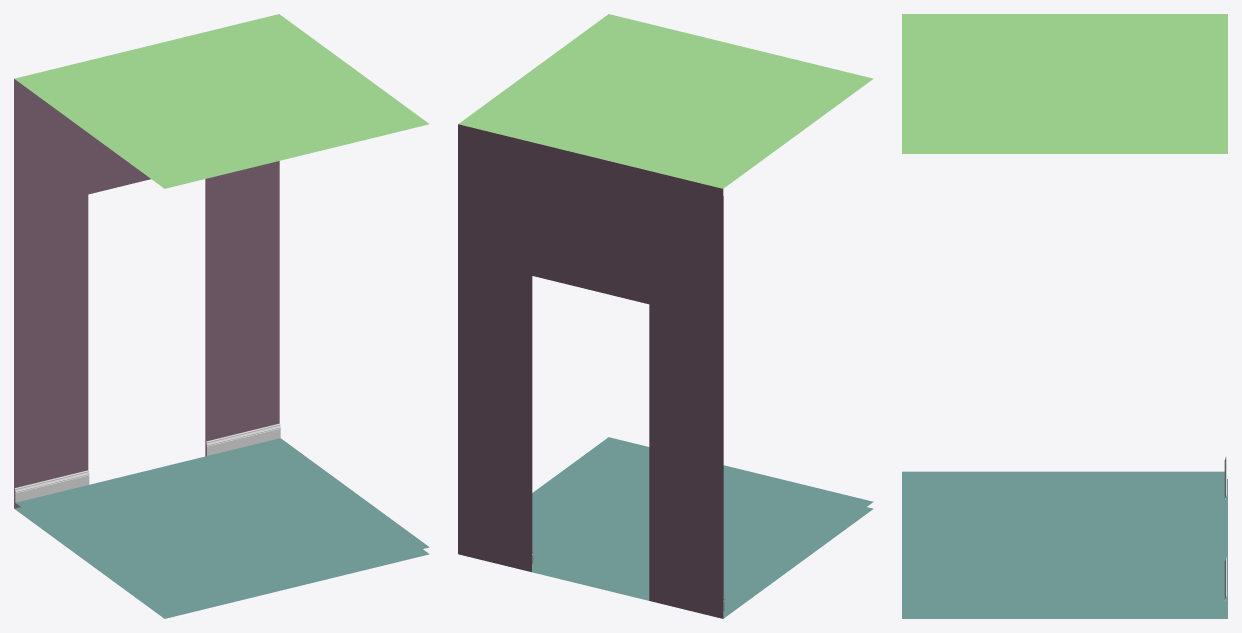
Rendered from Room_wall_2x2_door.fbx.
3 renders of one model, left to right at view 1: azimuth 30°, elevation 25°; view 2: azimuth 150°, elevation 25°; view 3: azimuth 270°, elevation 25°, orthographic. The views are drawn at different scales.
Parts seen in each view (by area): view 1: Wall_2x2_door_hole; view 2: Wall_2x2_door_hole; view 3: Wall_2x2_door_hole.
Part boxes in pixels (left/top/right/bottom): Wall_2x2_door_hole: left=14, top=14, right=429, bottom=618; Wall_2x2_door_hole: left=458, top=14, right=873, bottom=618; Wall_2x2_door_hole: left=902, top=14, right=1227, bottom=618.
Size of the model in its own units: 2 by 3.1 by 1.97.
